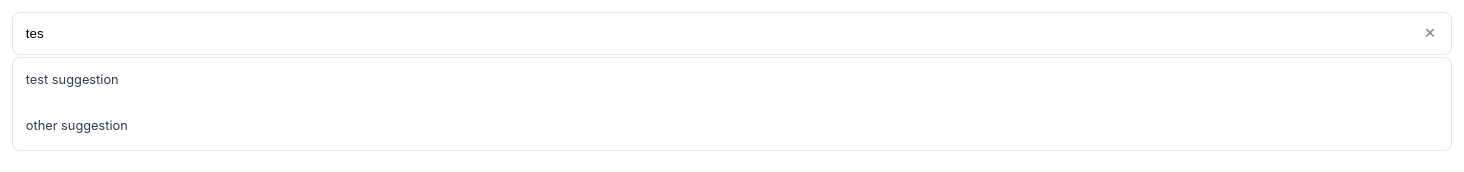
AutoComplete › should clear search input
Click the button "✕": point(1430, 33) [1421, 22, 1439, 44]
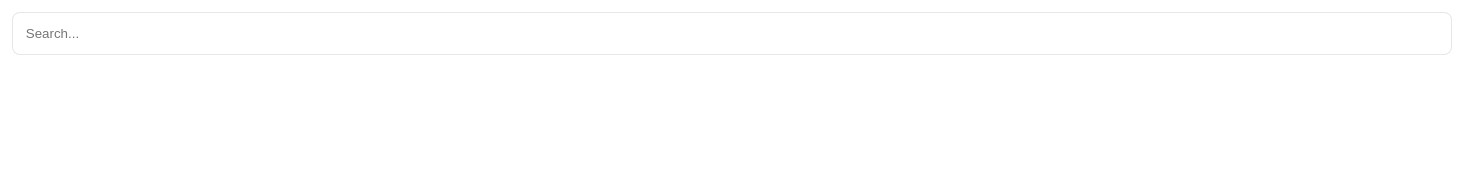
Expected: the text "tes" is gone
